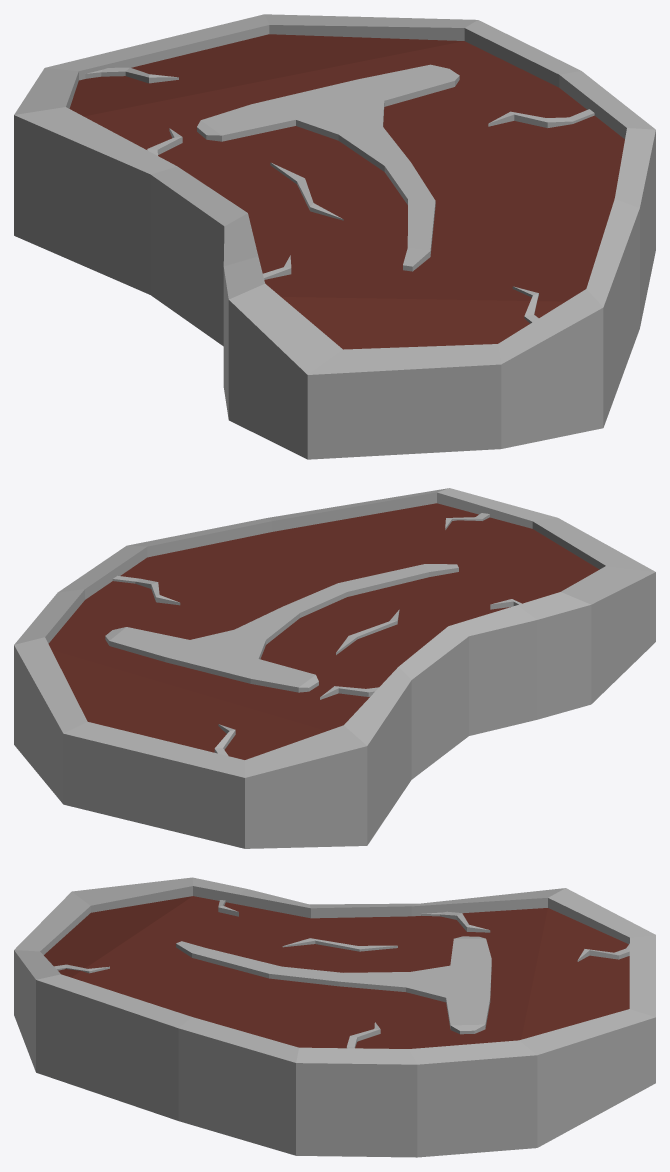
Rendered from Steak.gltf.
3 views of the same model, one above another, from view 1: azimuth 30°, elevation 25°; view 2: azimuth 150°, elevation 25°; view 3: azimuth 270°, elevation 25° (orthographic). The views are drawn at different scales.
Visible parts, largest first — view 1: Steak; view 2: Steak; view 3: Steak.
Boxes of the visible parts, x1=… form: Steak: x1=14, y1=14, x2=655, y2=459; Steak: x1=14, y1=488, x2=655, y2=848; Steak: x1=14, y1=877, x2=655, y2=1157.
Size of the model in its own units: 0.1884 by 0.0485 by 0.273.
